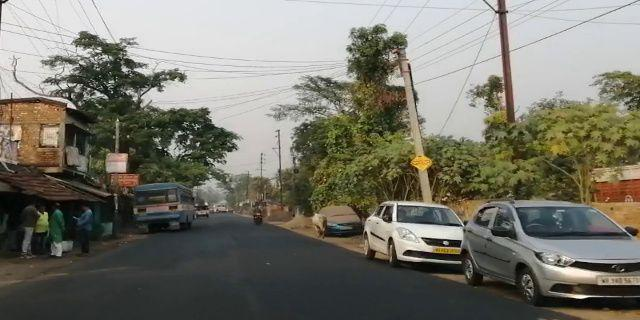Bus: (126, 178, 197, 232)
Car: (461, 197, 639, 313), (358, 196, 466, 271), (314, 198, 360, 233)
Motorbike: (246, 200, 265, 227)
